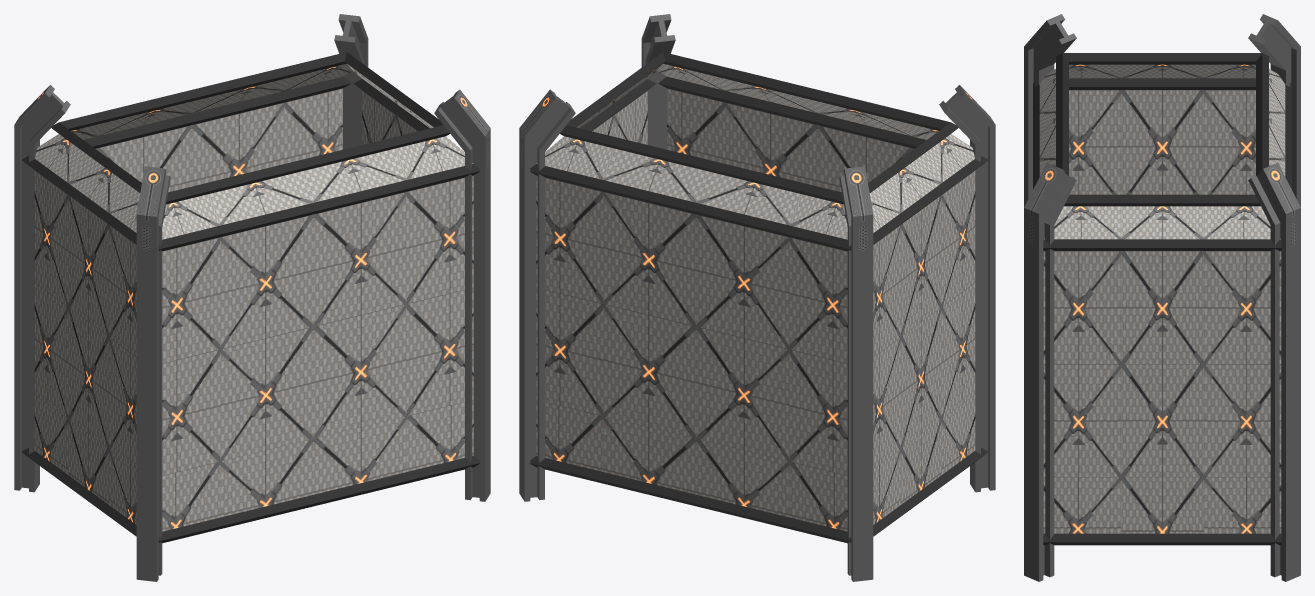
3 views of the same model, side by side, from view 1: azimuth 30°, elevation 25°; view 2: azimuth 150°, elevation 25°; view 3: azimuth 270°, elevation 25° (orthographic).
Parts seen in each view (by area): view 1: Plane.006; view 2: Plane.006; view 3: Plane.006.
Boxes of the visible parts, <box> form: Plane.006: <box>14,14,490,581</box>; Plane.006: <box>519,14,995,581</box>; Plane.006: <box>1024,14,1300,581</box>.
Size of the model in its own units: 30.45 by 32.9 by 20.45.
Materials: 1 (1 with a texture image).
